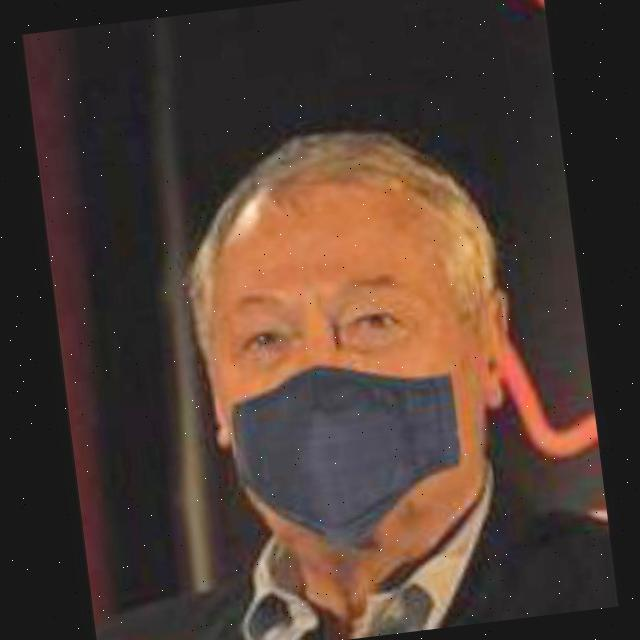suspicion: (135, 84, 558, 564)
